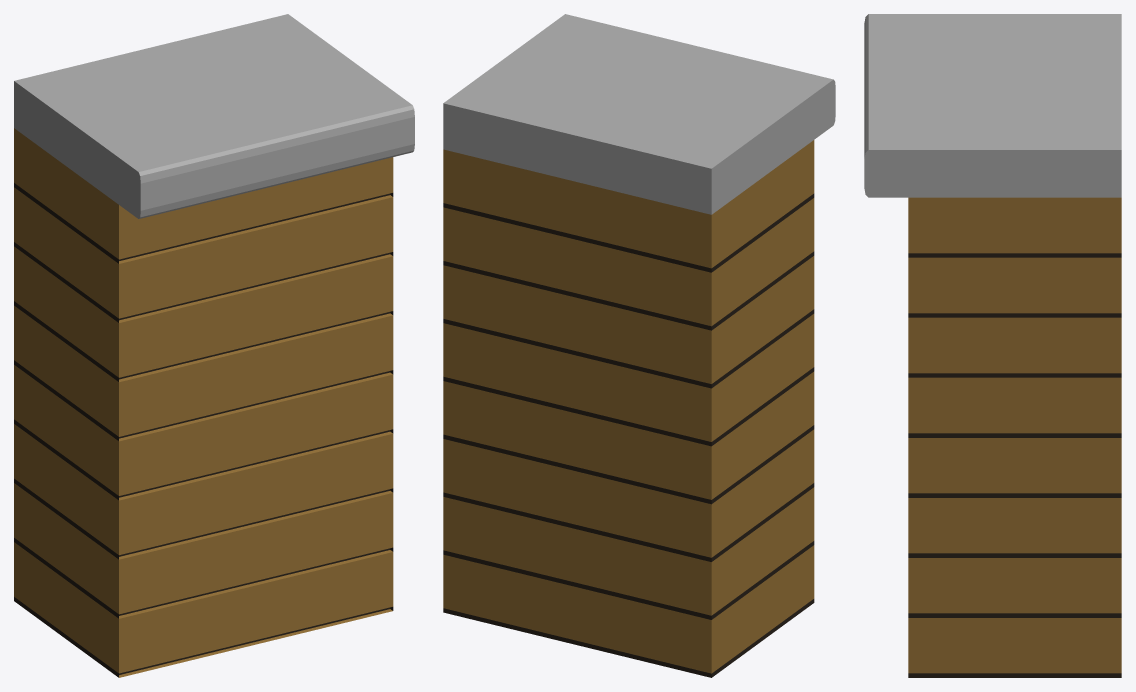
File: BarSegment.fbx
3 renders of one model, left to right at view 1: azimuth 30°, elevation 25°; view 2: azimuth 150°, elevation 25°; view 3: azimuth 270°, elevation 25°, orthographic. The views are drawn at different scales.
Parts seen in each view (by area): view 1: BarSegment; view 2: BarSegment; view 3: BarSegment.
Boxes of the visible parts, <box> form: BarSegment: <box>14,14,414,677</box>; BarSegment: <box>443,14,835,677</box>; BarSegment: <box>864,14,1121,677</box>.
Bounding box in the file's own units: 201 × 365 × 161.
